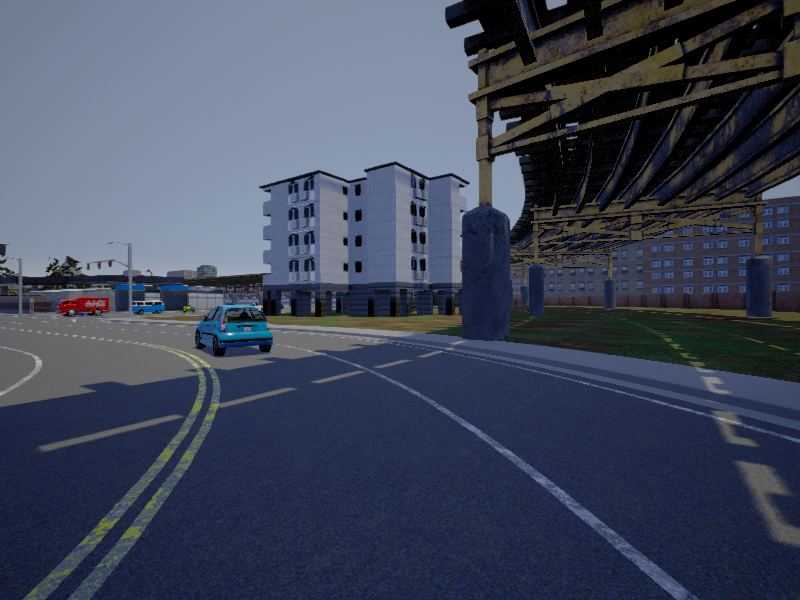Benign: (195, 307, 273, 354), (57, 297, 107, 316), (129, 300, 165, 316)
